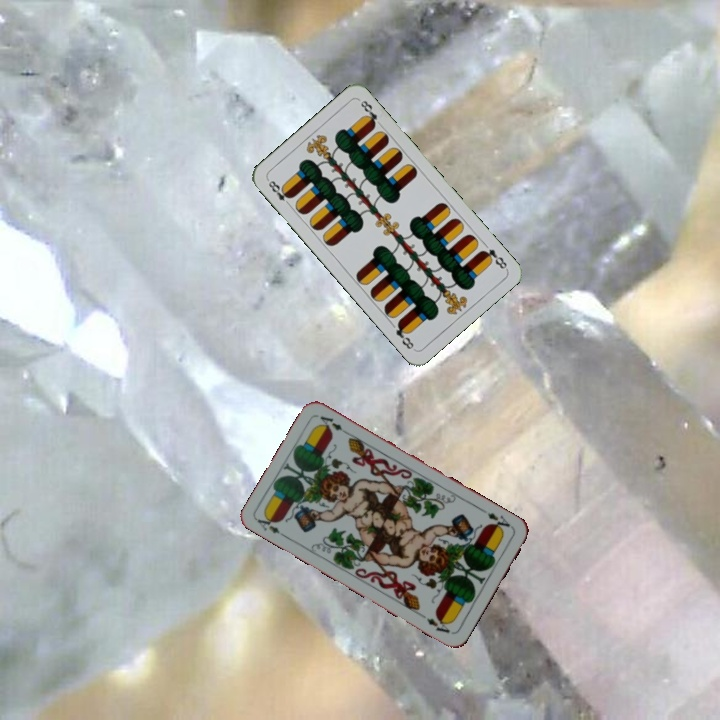E8: (264, 175, 295, 209), (477, 244, 510, 272)
EA: (253, 510, 290, 541), (478, 505, 515, 534)
